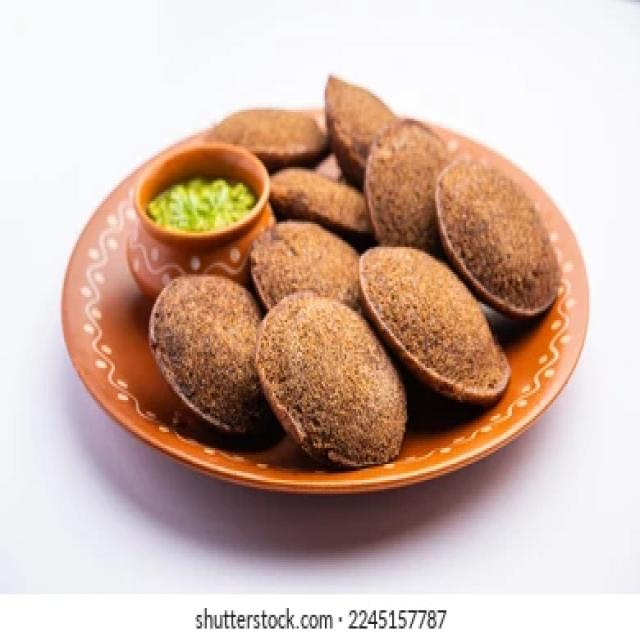IDLI: (255, 291, 409, 464), (362, 242, 514, 396), (150, 266, 272, 442), (436, 147, 563, 314), (367, 114, 455, 246), (324, 68, 400, 165), (204, 103, 339, 156), (277, 158, 372, 232)
